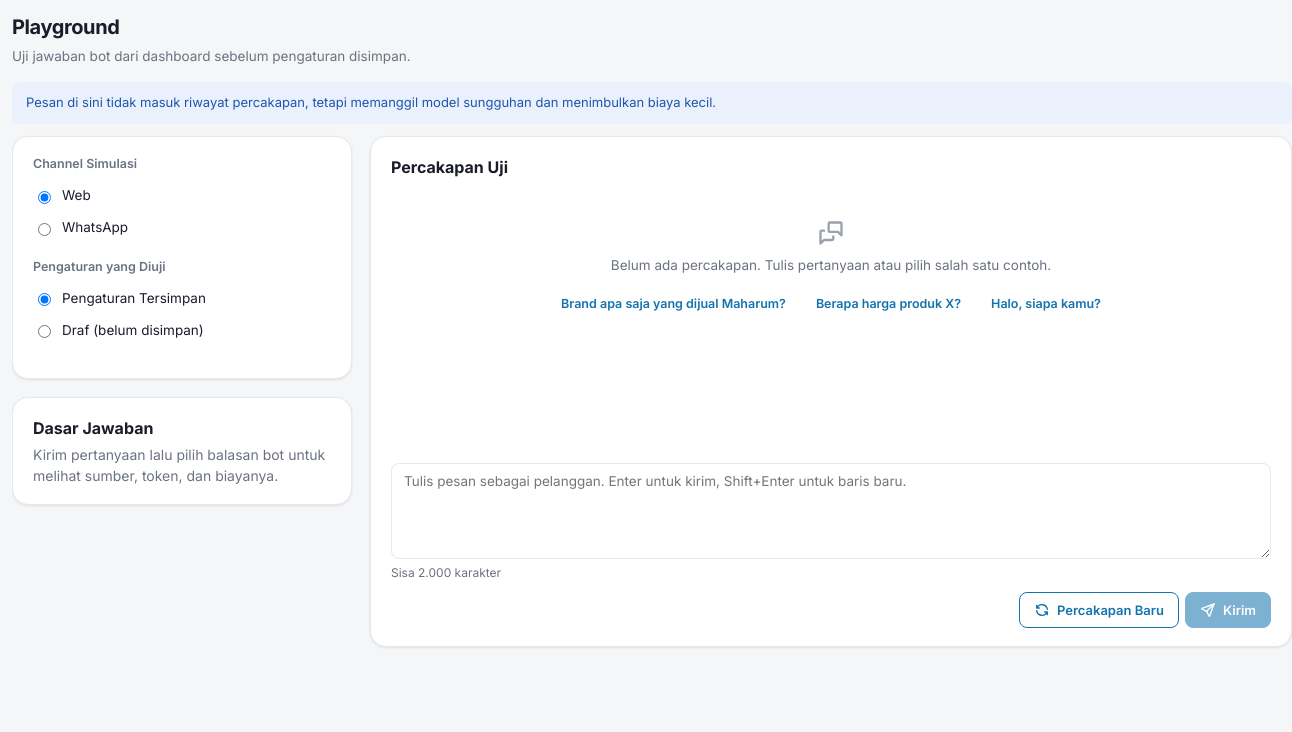
it: Halaman Playground › mengirim channel WhatsApp bila dipilih
Click the radio button labelled "WhatsApp" at {"x": 44, "y": 229}, box [38,222,51,236]
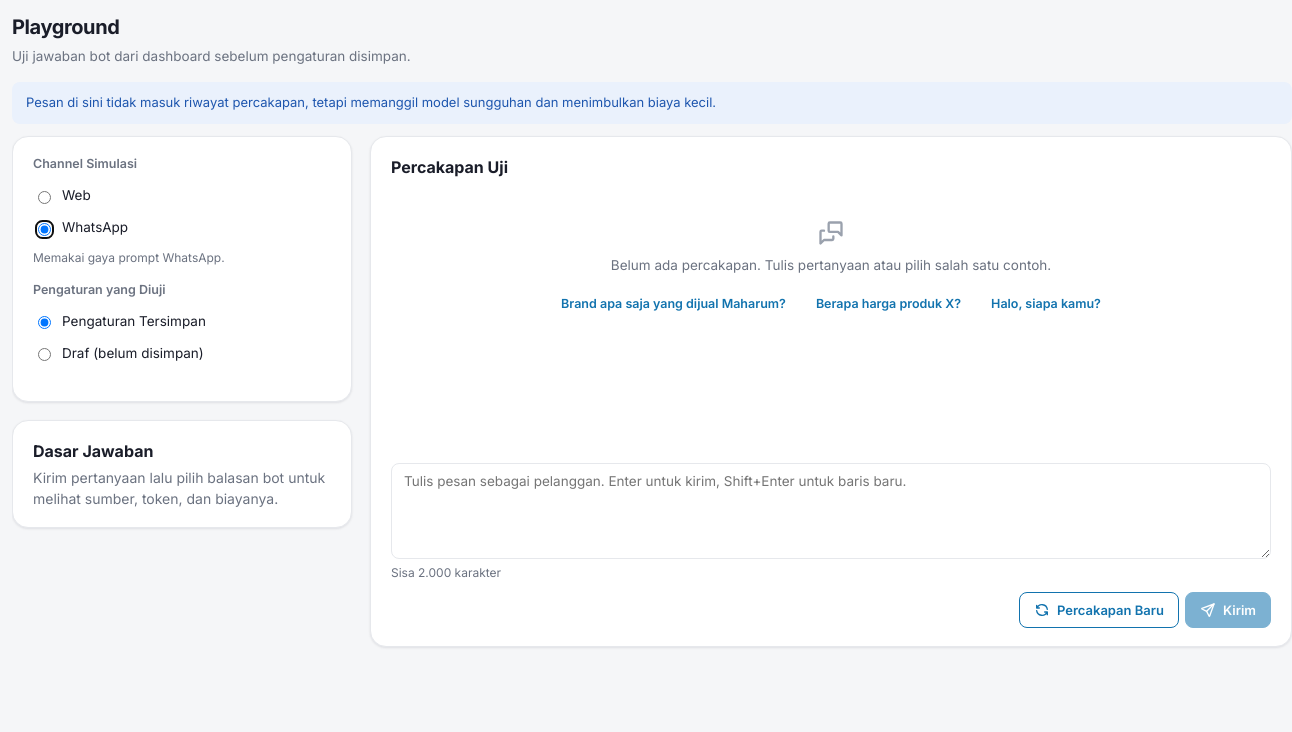
Type "Halo" into the text box named "Pesan Uji" at {"x": 831, "y": 511}, box [391,463,1271,559]
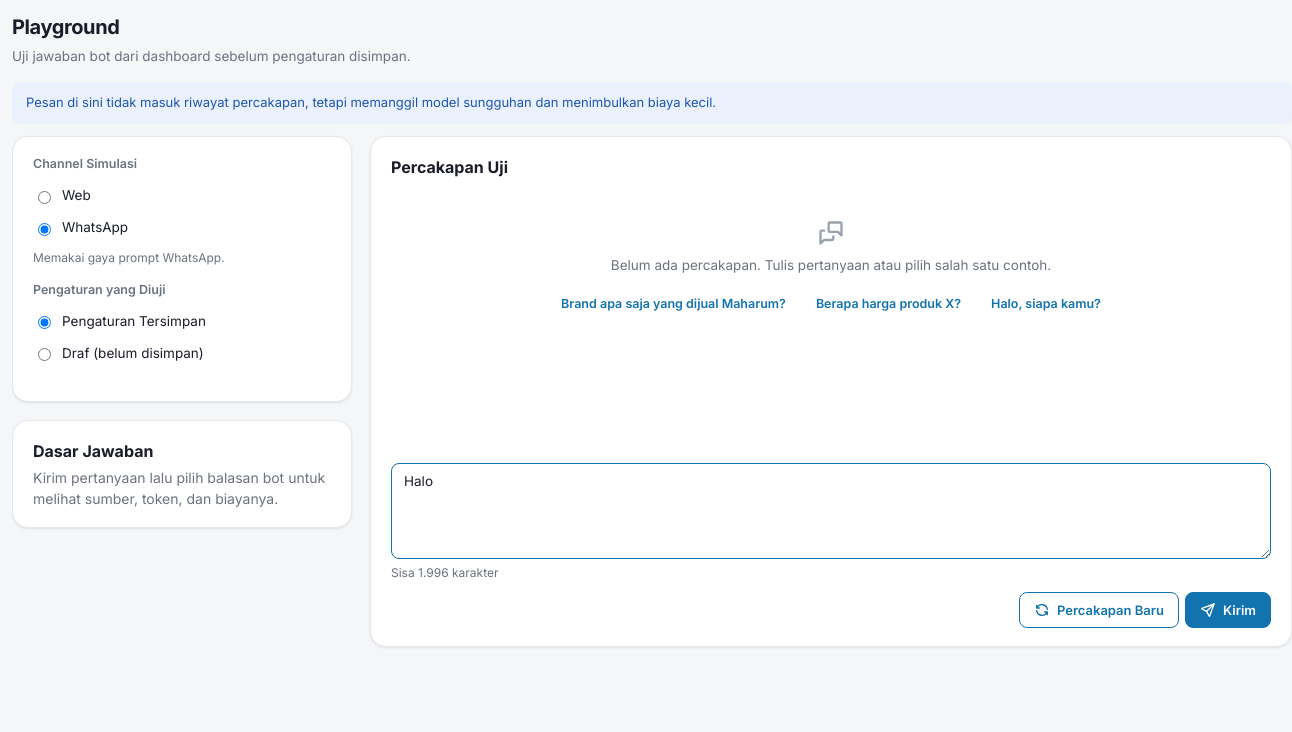
Click the button "Kirim" at {"x": 1228, "y": 610}, box [1185,592,1271,628]
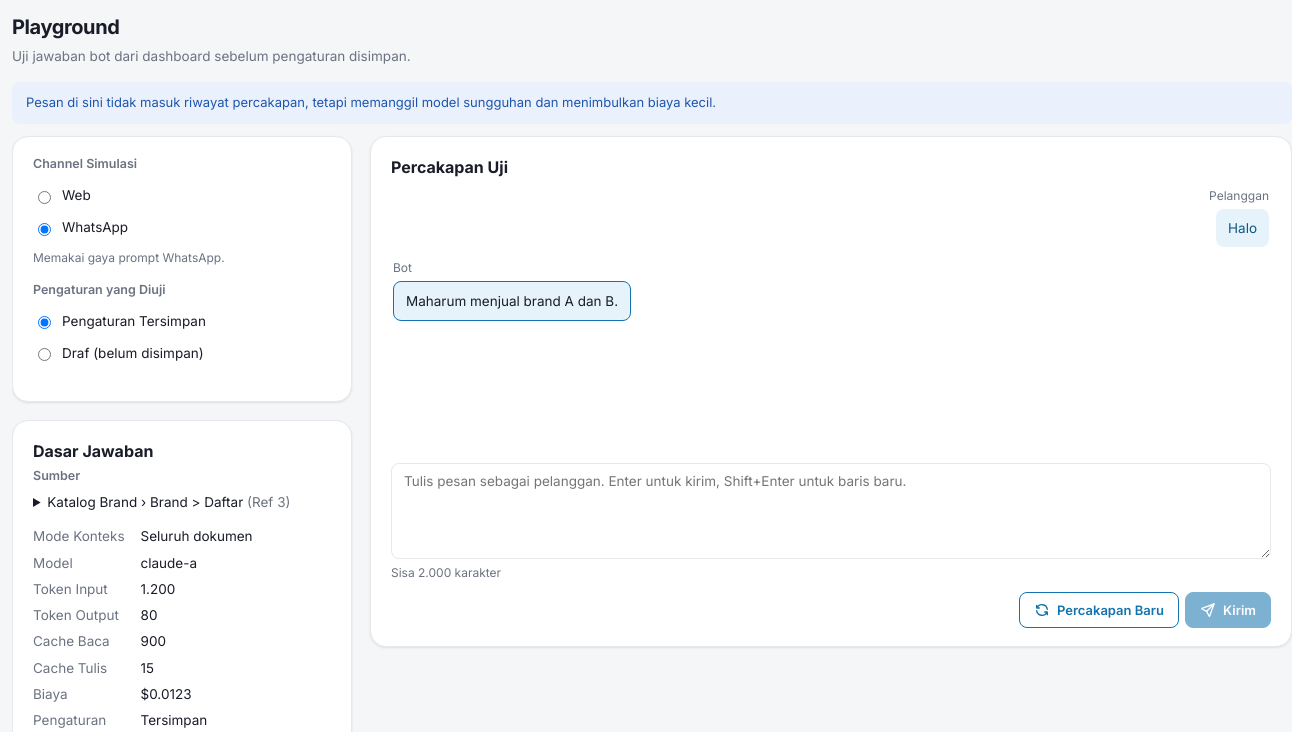
Expected: the button "Maharum menjual brand A dan B." is shown, [393,281,631,321]
